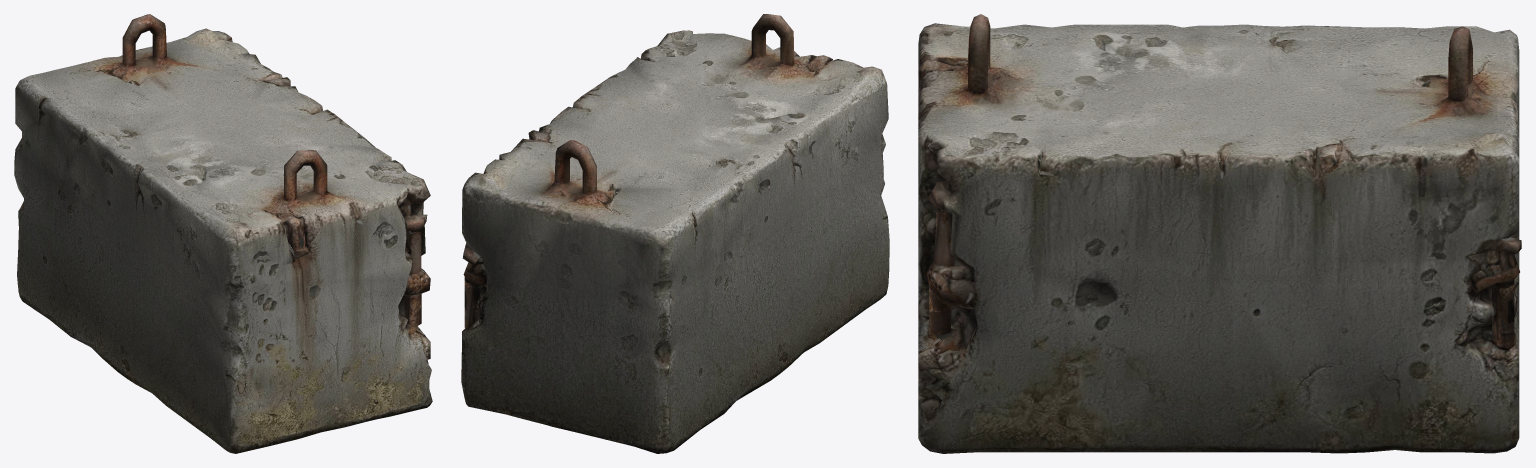
Rendered from block.glb.
The picture shows the model from 3 angles, left to right: view 1: azimuth 30°, elevation 25°; view 2: azimuth 150°, elevation 25°; view 3: azimuth 270°, elevation 25°; orthographic projection. The views are drawn at different scales.
Visible parts, largest first — view 1: tripo_node_6918cf79-972b-458f-ac72-162ebeb83834; view 2: tripo_node_6918cf79-972b-458f-ac72-162ebeb83834; view 3: tripo_node_6918cf79-972b-458f-ac72-162ebeb83834.
Boxes of the visible parts, <box> form: tripo_node_6918cf79-972b-458f-ac72-162ebeb83834: <box>14,14,432,453</box>; tripo_node_6918cf79-972b-458f-ac72-162ebeb83834: <box>461,14,889,453</box>; tripo_node_6918cf79-972b-458f-ac72-162ebeb83834: <box>918,14,1521,453</box>.
Size of the model in its own units: 0.521 by 0.6484 by 0.9716.
Materials: 1 (1 with a texture image).
